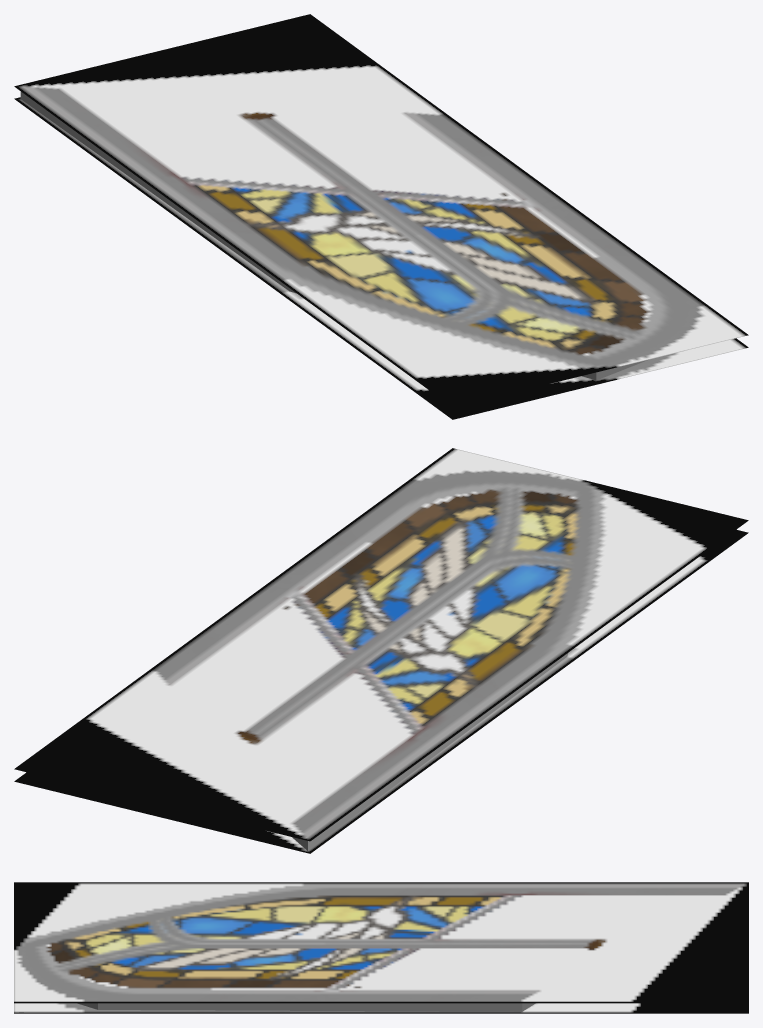
Rendered from pz_native_location_community_church_small_01_258_frame.obj.
The picture shows the model from 3 angles, top to bottom: view 1: azimuth 30°, elevation 25°; view 2: azimuth 150°, elevation 25°; view 3: azimuth 270°, elevation 25°; orthographic projection. The views are drawn at different scales.
Parts seen in each view (by area): view 1: pz_native_location_community_church_small_01_258_frame; view 2: pz_native_location_community_church_small_01_258_frame; view 3: pz_native_location_community_church_small_01_258_frame.
Part boxes in pixels (bbox=[...]): pz_native_location_community_church_small_01_258_frame: bbox=[14, 14, 748, 419]; pz_native_location_community_church_small_01_258_frame: bbox=[14, 448, 748, 853]; pz_native_location_community_church_small_01_258_frame: bbox=[14, 882, 748, 1013].
Bounding box in the file's own units: 1 × 0.04 × 2.56.
Materials: 1 (1 with a texture image).
